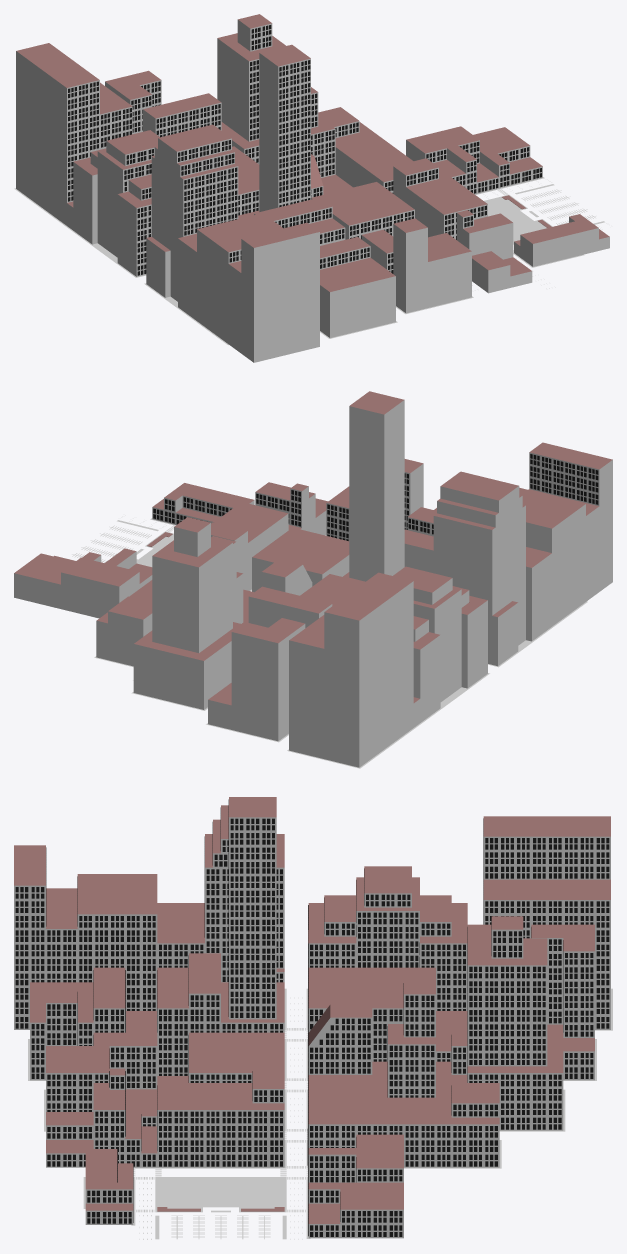
Rendered from skyline.dae.
3 views of the same model, one above another, from view 1: azimuth 30°, elevation 25°; view 2: azimuth 150°, elevation 25°; view 3: azimuth 270°, elevation 25° (orthographic). The views are drawn at different scales.
Parts seen in each view (by area): view 1: Buildings, BuildingCeilings, BuildingWindows, Sidewalks, ParkingSpots; view 2: Buildings, BuildingCeilings, BuildingWindows, Sidewalks, ParkingSpots; view 3: Buildings, BuildingCeilings, BuildingWindows, Sidewalks, ParkingSpots, Crosswalks.
Part boxes in pixels (left/top/right/bottom): Buildings: left=16, top=19, right=609, bottom=362; BuildingCeilings: left=16, top=14, right=609, bottom=291; BuildingWindows: left=68, top=25, right=541, bottom=275; Sidewalks: left=14, top=177, right=604, bottom=345; ParkingSpots: left=521, top=189, right=595, bottom=225; Buildings: left=14, top=400, right=612, bottom=767; BuildingCeilings: left=14, top=391, right=612, bottom=705; BuildingWindows: left=153, top=454, right=598, bottom=540; Sidewalks: left=94, top=518, right=587, bottom=768; ParkingSpots: left=72, top=525, right=151, bottom=562; Buildings: left=14, top=817, right=610, bottom=1238; BuildingCeilings: left=14, top=797, right=610, bottom=1223; BuildingWindows: left=15, top=799, right=609, bottom=1236; Sidewalks: left=28, top=988, right=612, bottom=1239; ParkingSpots: left=171, top=1215, right=270, bottom=1239; Crosswalks: left=133, top=1028, right=307, bottom=1212.
Size of the model in its own units: 74.7 by 75.25 by 36.
